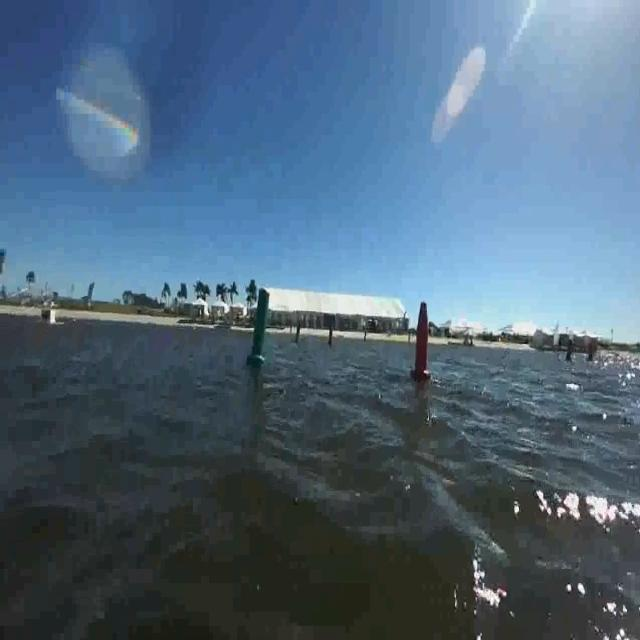green-column-buoy: (246, 288, 274, 368), (293, 323, 301, 345)
red-column-buoy: (411, 300, 433, 382)
